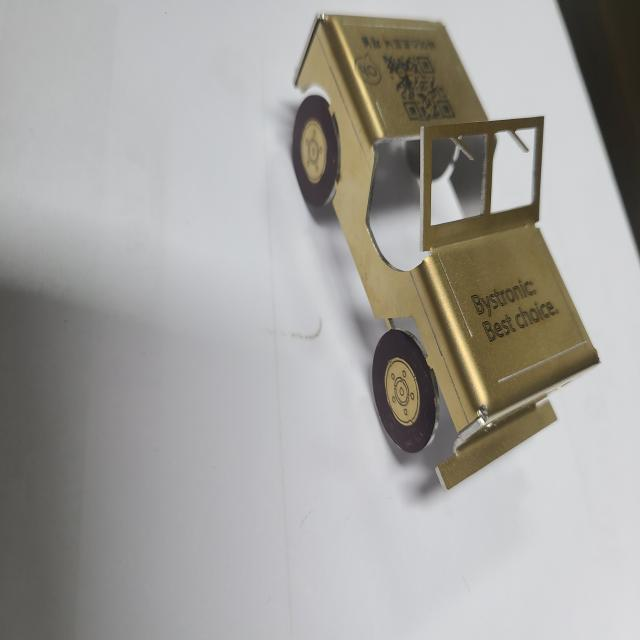tire: (371, 328, 436, 452), (290, 96, 340, 205)
